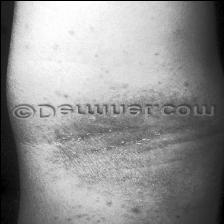Non-Cancerous Skin Condition: (48, 116, 216, 184), (137, 222, 153, 224)
